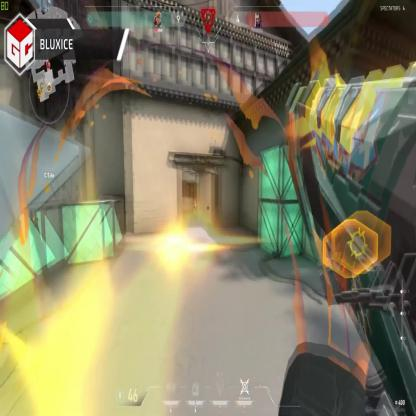enemy: (192, 199, 198, 226)
enemy_head: (193, 200, 196, 204)
